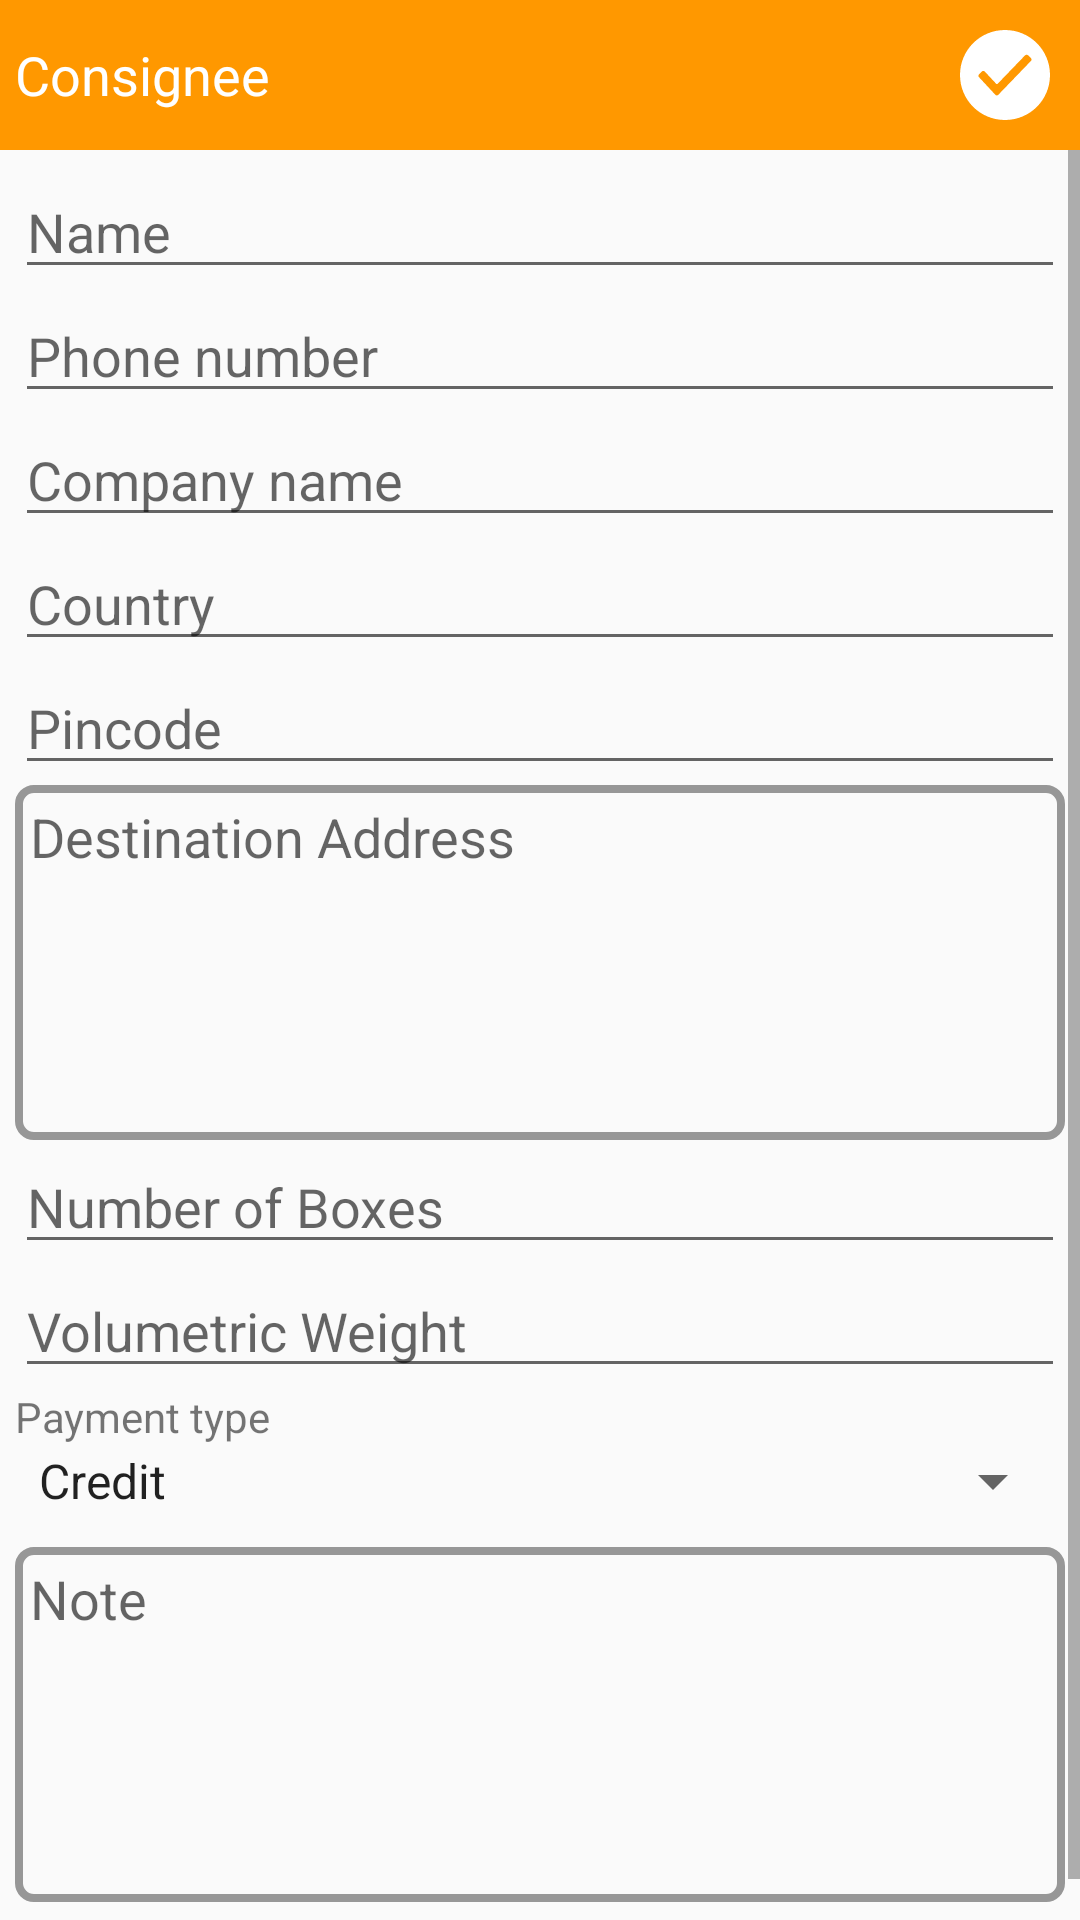

Icons on this 1080px×1920px Android screen, each with the point to tap as [x,y]:
checked: [1005,75]
